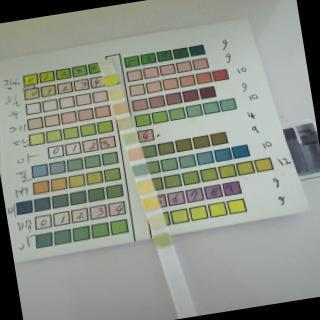mark: (150, 215, 164, 228), (156, 234, 170, 246), (144, 198, 158, 210), (130, 148, 143, 160), (140, 182, 152, 194), (135, 163, 147, 175), (124, 134, 136, 144), (119, 118, 131, 128), (101, 61, 111, 73), (106, 75, 116, 86), (112, 89, 121, 100), (116, 104, 125, 114)
